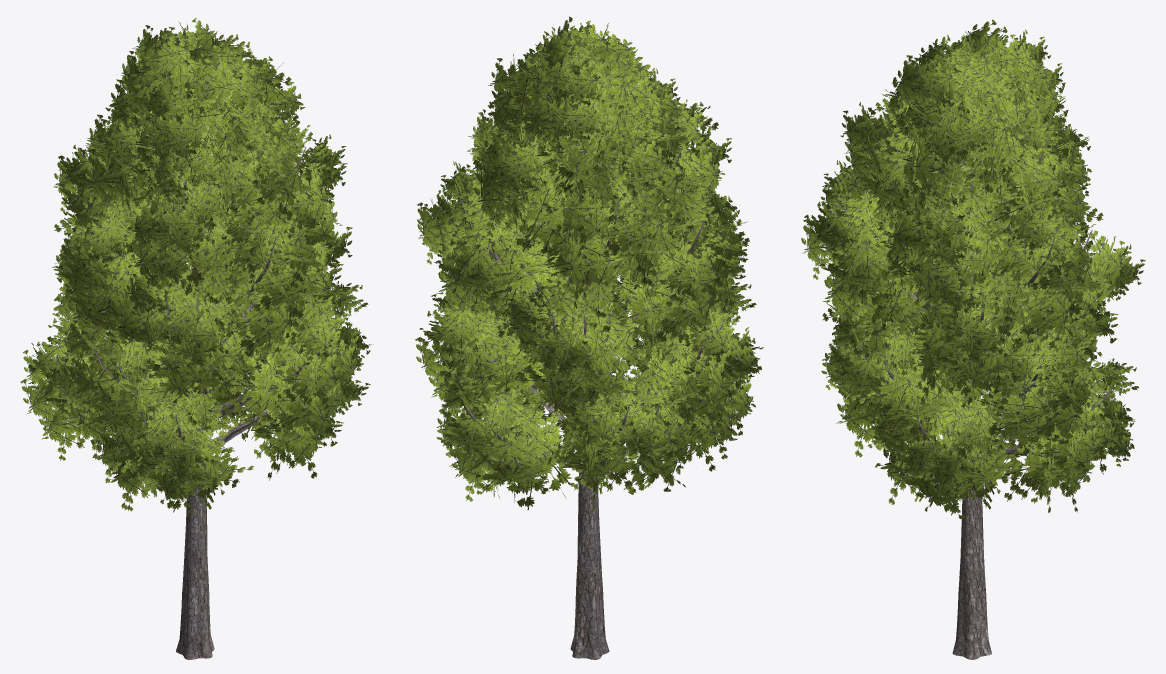
The model's file is tree3.glb.
3 renders of one model, left to right at view 1: azimuth 30°, elevation 25°; view 2: azimuth 150°, elevation 25°; view 3: azimuth 270°, elevation 25°, orthographic.
Parts seen in each view (by area): view 1: tree4_leaves_0, tree4_bark_0; view 2: tree4_leaves_0, tree4_bark_0; view 3: tree4_leaves_0, tree4_bark_0.
Part boxes in pixels (left/top/right/bottom): tree4_leaves_0: left=20, top=18, right=373, bottom=514; tree4_bark_0: left=56, top=70, right=341, bottom=659; tree4_leaves_0: left=415, top=16, right=763, bottom=510; tree4_bark_0: left=458, top=72, right=729, bottom=659; tree4_leaves_0: left=801, top=19, right=1145, bottom=519; tree4_bark_0: left=840, top=71, right=1108, bottom=659.
Bounding box in the file's own units: 0.5317 × 1 × 0.5154.
2 materials, 2 textured.
